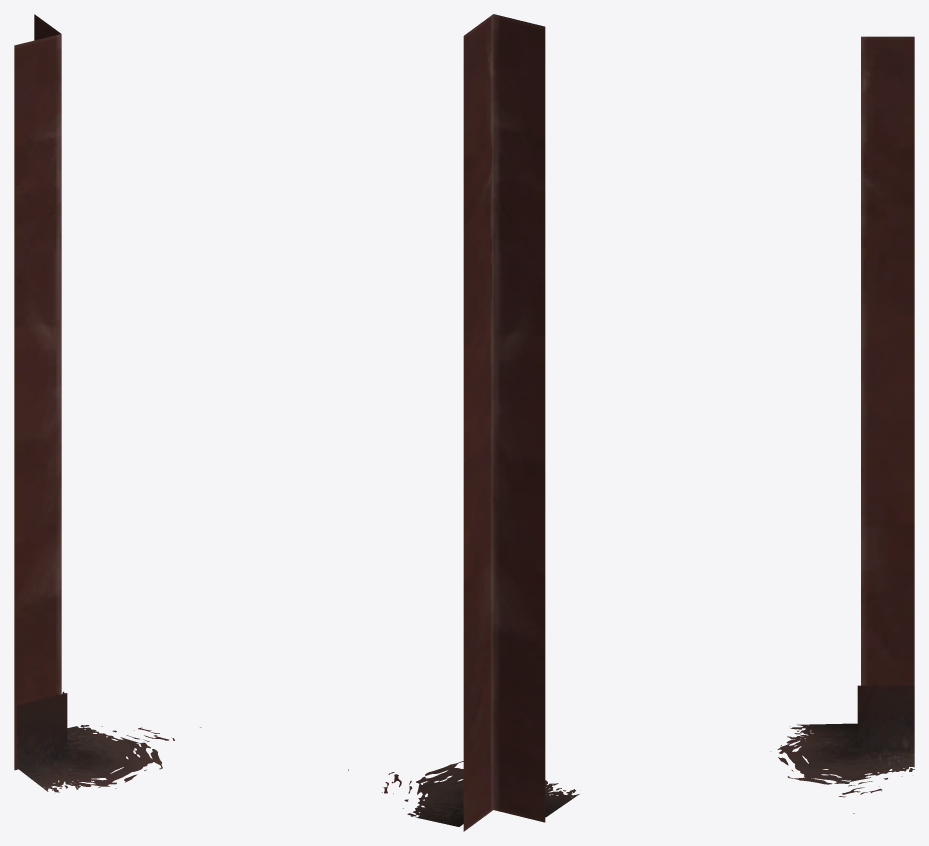
File: lava_wall_convex_03.fbx
3 renders of one model, left to right at view 1: azimuth 30°, elevation 25°; view 2: azimuth 150°, elevation 25°; view 3: azimuth 270°, elevation 25°, orthographic. The views are drawn at different scales.
Visible parts, largest first — view 1: lava_wall_convex_03-0; view 2: lava_wall_convex_03-0; view 3: lava_wall_convex_03-0.
Part boxes in pixels (bbox=[...]): lava_wall_convex_03-0: bbox=[14, 14, 201, 793]; lava_wall_convex_03-0: bbox=[348, 14, 579, 831]; lava_wall_convex_03-0: bbox=[770, 36, 914, 813].
Size of the model in its own units: 1.75 by 5.5 by 1.74.
